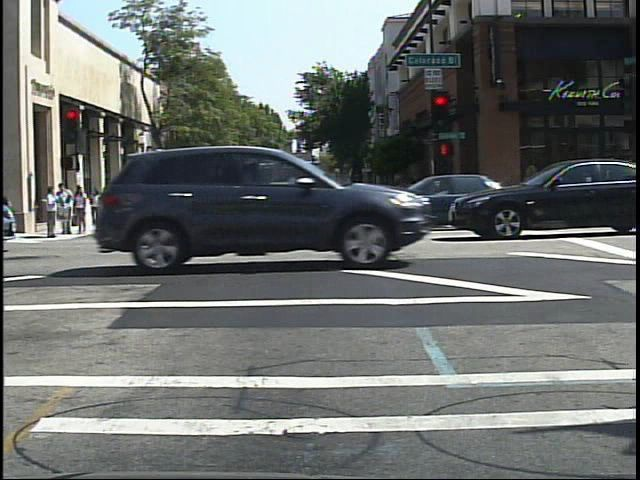person: (162, 181, 180, 217), (89, 187, 103, 228), (137, 180, 155, 211)
